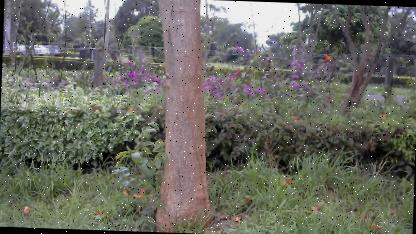tree: (139, 0, 229, 231)
